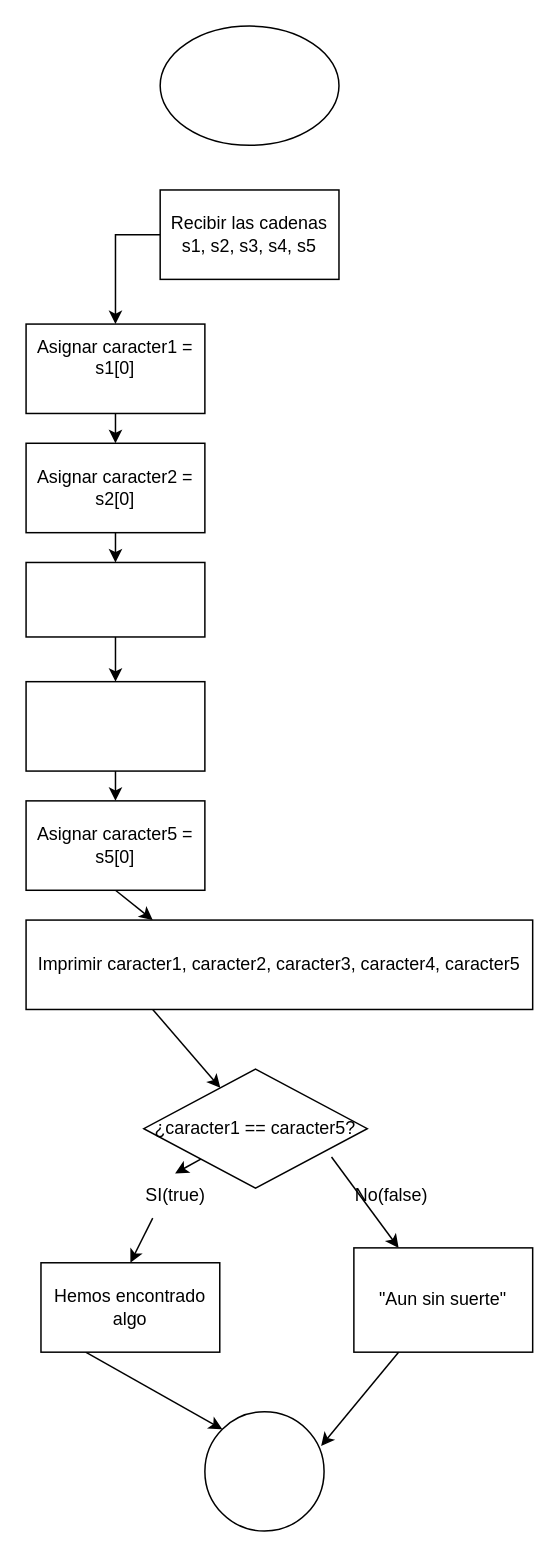
Some shapes in this 559 by 1557 pixel diagram are drawn without their labels. The box of each missing label's shape, as (x1, y1, x2, y2) in pixels:
Asignar caracter3 = s3[0]: (25, 561, 205, 637)
Asignar caracter4 = s4[0]: (25, 680, 205, 771)
Fin: (203, 1410, 324, 1531)
Inicio: (159, 25, 339, 145)
